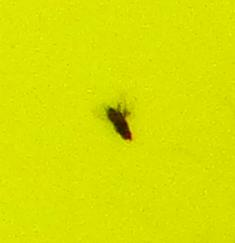Brachycera: (100, 100, 135, 143)
